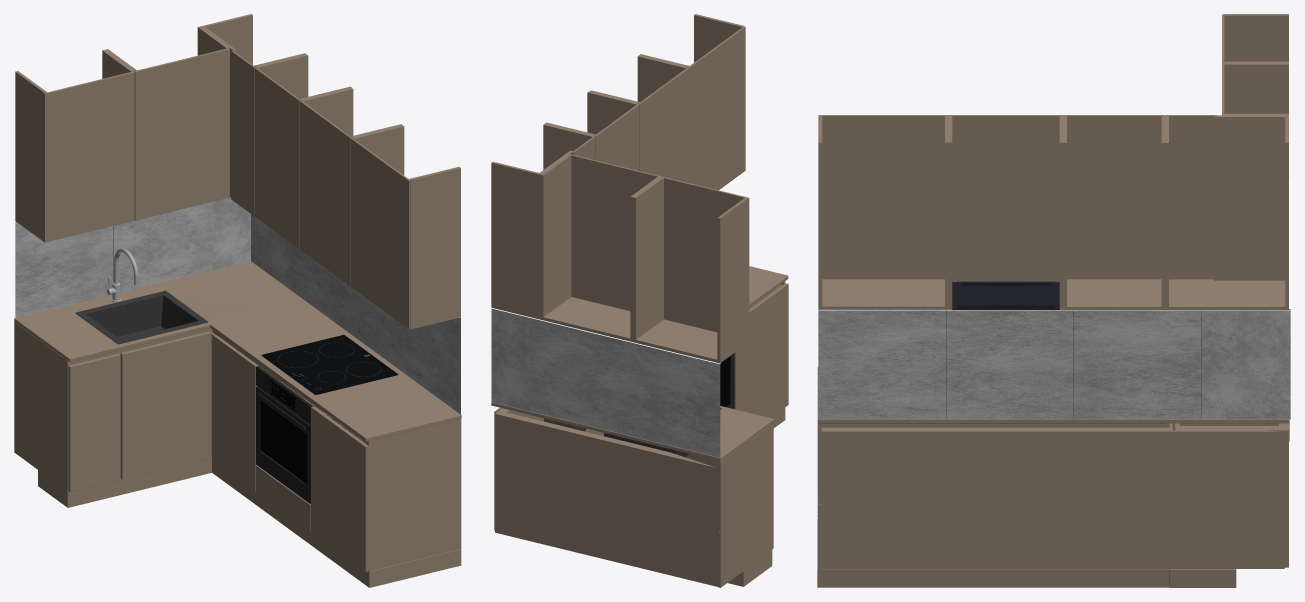
3 renders of one model, left to right at view 1: azimuth 30°, elevation 25°; view 2: azimuth 150°, elevation 25°; view 3: azimuth 270°, elevation 25°, orthographic. The views are drawn at different scales.
Visible parts, largest first — view 1: кухня.003, Плоскость.009, Плоскость.010, Ovens.001, Group2132584297, kitchen sink001.001, Faucet.001; view 2: кухня.003, Плоскость.009, Ovens.001; view 3: кухня.003, Плоскость.010, Hood.001.
Boxes of the visible parts, x1,y1,x2,y2 form: кухня.003: [14, 14, 461, 587]; Плоскость.009: [15, 197, 250, 318]; Плоскость.010: [251, 214, 460, 414]; Ovens.001: [256, 366, 313, 504]; Group2132584297: [261, 335, 398, 394]; kitchen sink001.001: [75, 290, 208, 344]; Faucet.001: [106, 248, 138, 302]; кухня.003: [491, 14, 788, 587]; Плоскость.009: [492, 307, 720, 457]; Ovens.001: [720, 353, 734, 409]; кухня.003: [817, 14, 1289, 587]; Плоскость.010: [818, 309, 1290, 419]; Hood.001: [952, 281, 1059, 309].
Size of the model in its own units: 1.56 by 2.5 by 2.41.
Materials: 17 (4 with a texture image).
